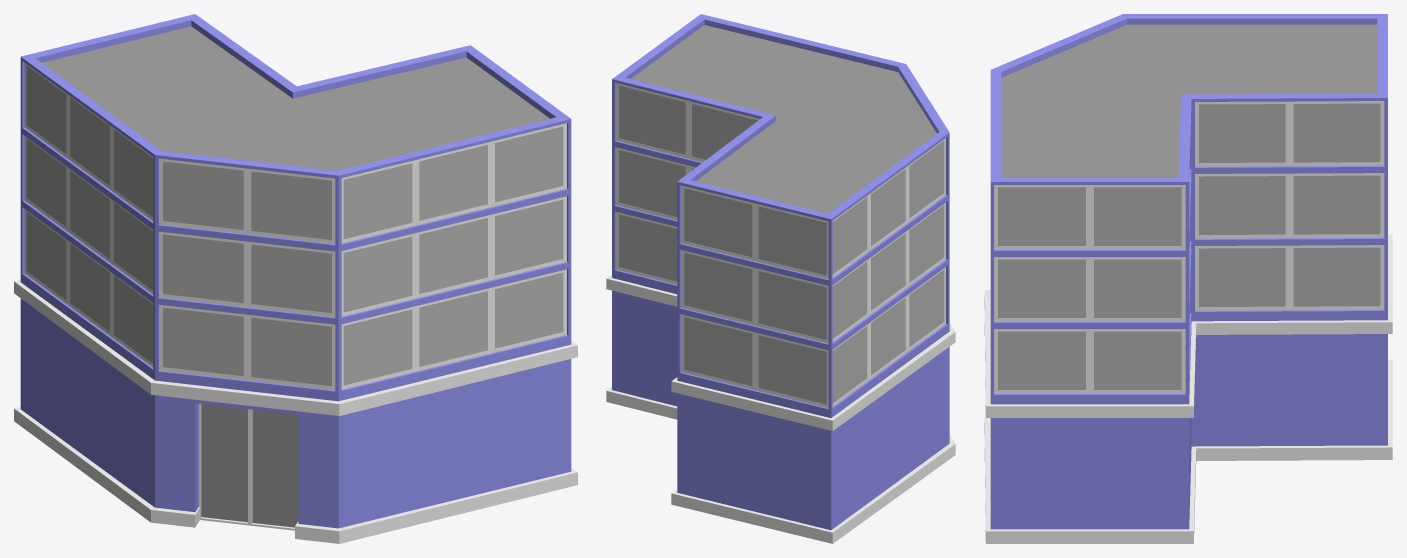
The model's file is SM_House_13_03.FBX.
The picture shows the model from 3 angles, left to right: view 1: azimuth 30°, elevation 25°; view 2: azimuth 150°, elevation 25°; view 3: azimuth 270°, elevation 25°; orthographic projection. The views are drawn at different scales.
Parts seen in each view (by area): view 1: SM_House_13_03; view 2: SM_House_13_03; view 3: SM_House_13_03.
Part boxes in pixels (<box>): SM_House_13_03: <box>14,14,577,543</box>; SM_House_13_03: <box>606,14,955,543</box>; SM_House_13_03: <box>984,14,1392,543</box>.
Bounding box in the file's own units: 6.16 × 6 × 6.16.
1 material, 1 textured.
